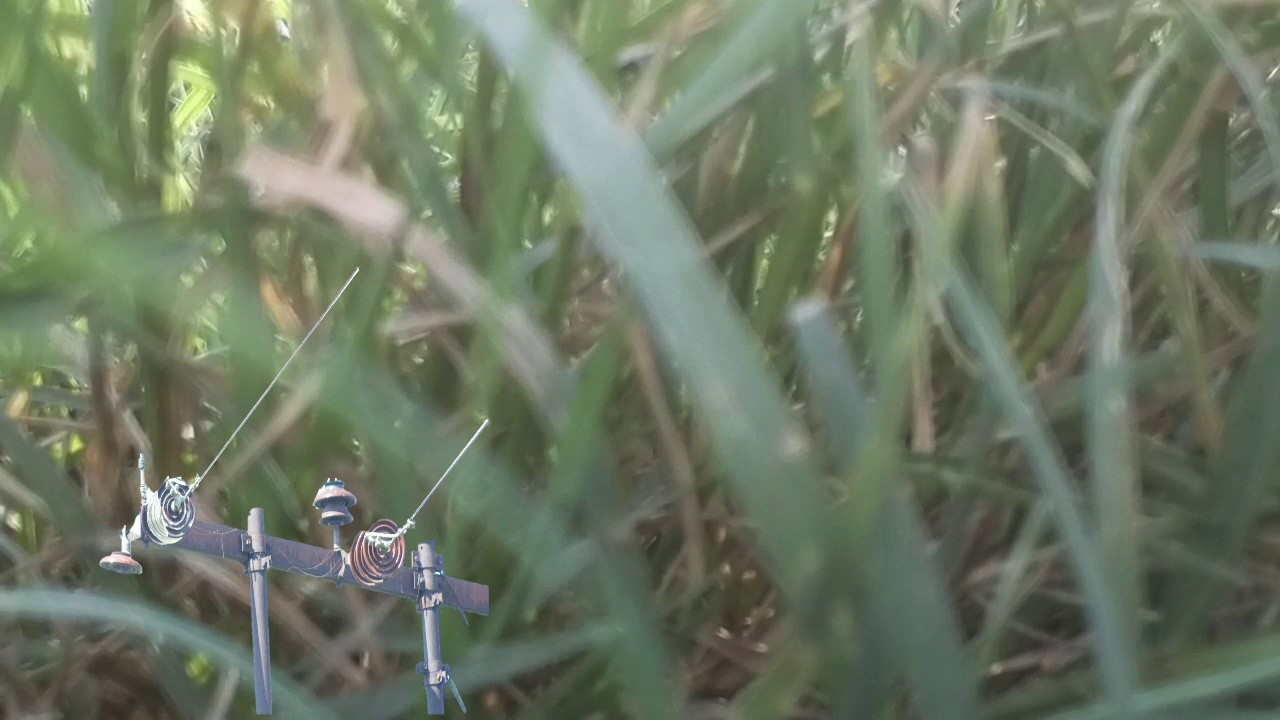defect_disc: (154, 475, 199, 542)
insulator_disc: (356, 513, 405, 575), (98, 544, 149, 583)
